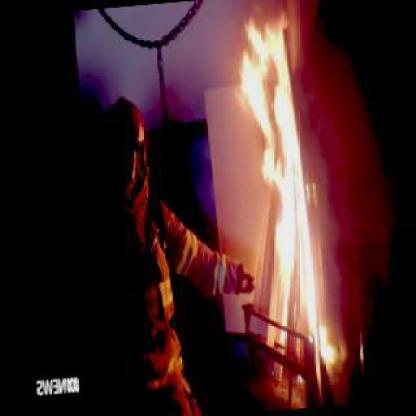Fire: (227, 2, 348, 384)
